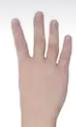right: (8, 8, 76, 114)
